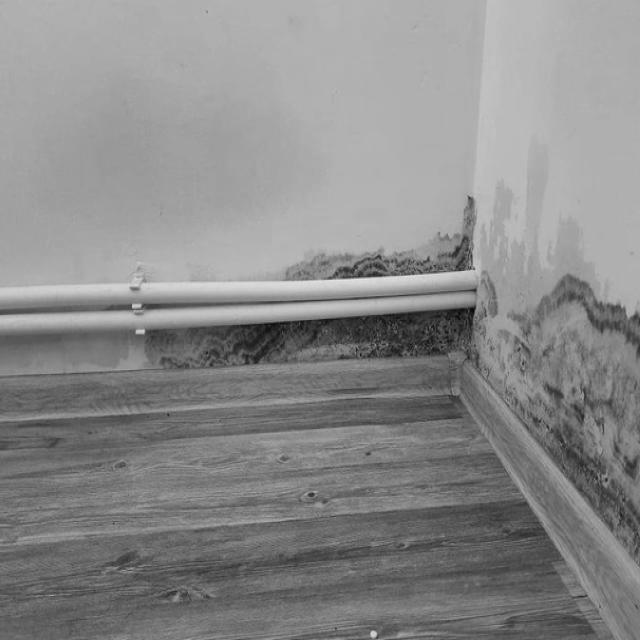stain marks: (20, 74, 351, 230), (476, 131, 640, 375), (510, 410, 640, 570), (284, 194, 477, 274), (144, 326, 292, 366), (1, 332, 135, 371), (486, 378, 638, 408), (388, 308, 476, 356), (294, 318, 388, 361)
